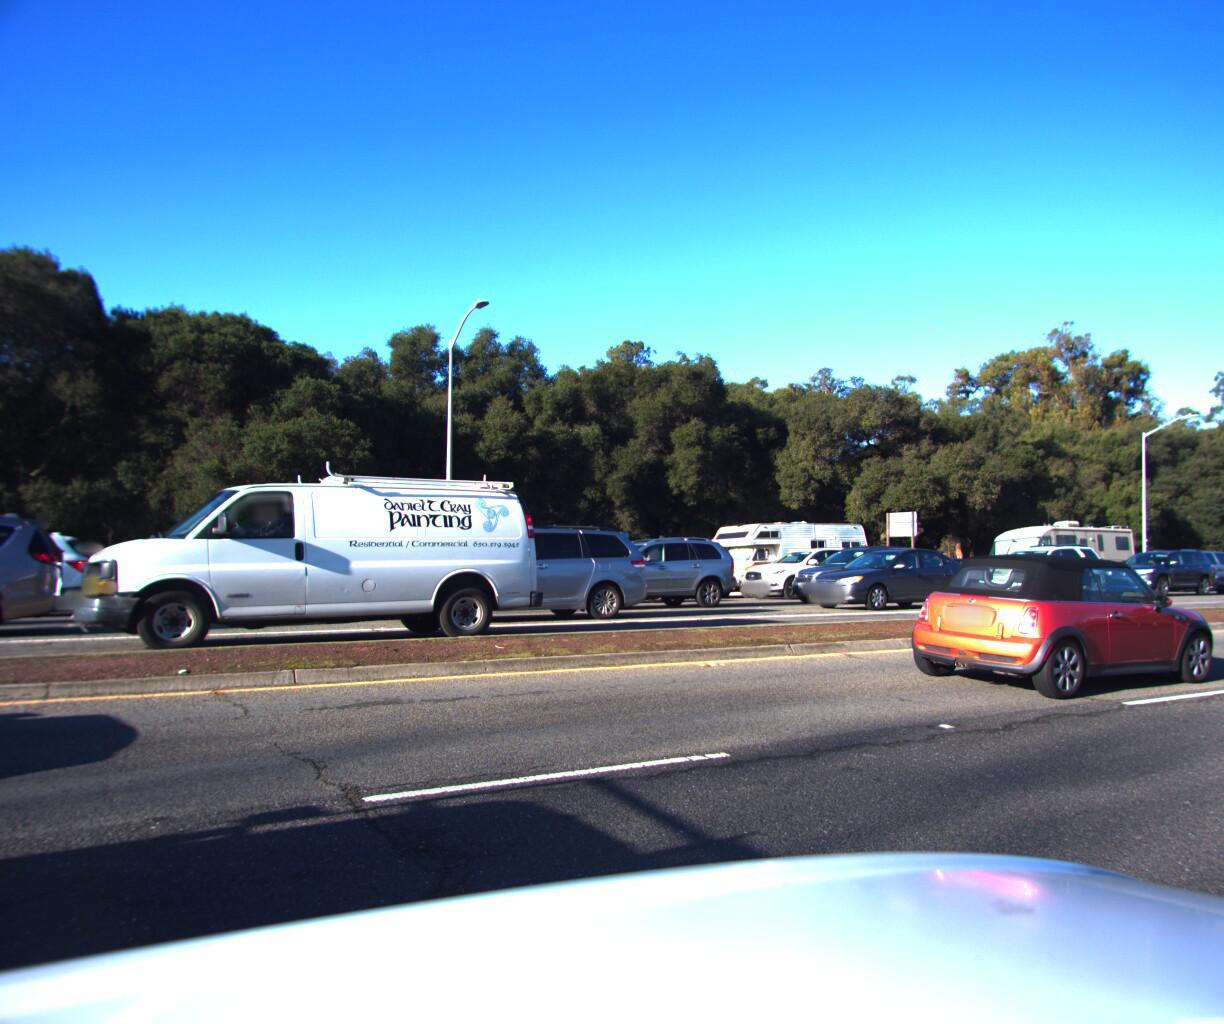car: (57, 449, 553, 669), (899, 545, 1219, 700), (389, 518, 666, 626), (536, 529, 744, 610), (798, 539, 984, 607), (778, 541, 935, 605), (969, 536, 1110, 597), (734, 543, 871, 598), (1095, 542, 1216, 592), (880, 551, 1001, 593), (1145, 543, 1224, 585), (1182, 544, 1224, 578), (1200, 555, 1224, 594), (1223, 553, 1224, 593)
other_vehicle: (698, 515, 874, 595), (974, 511, 1137, 584)
